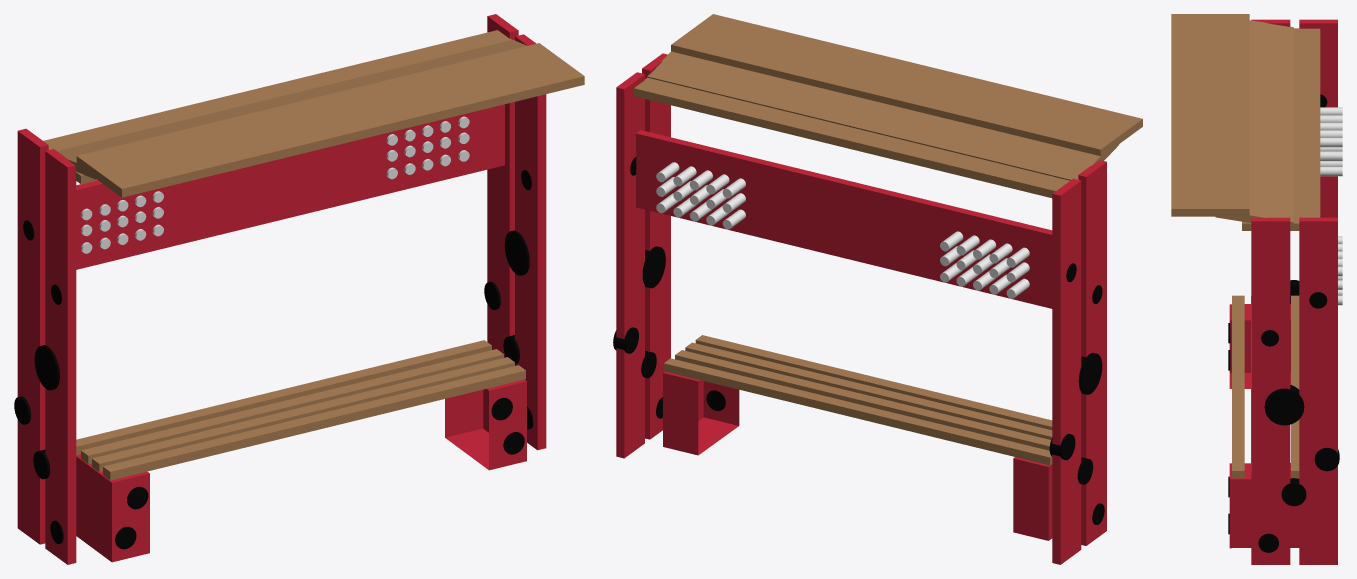
Rendered from station.gltf.
3 renders of one model, left to right at view 1: azimuth 30°, elevation 25°; view 2: azimuth 150°, elevation 25°; view 3: azimuth 270°, elevation 25°, orthographic. The views are drawn at different scales.
Visible parts, largest first — view 1: Cube; view 2: Cube; view 3: Cube.
Part boxes in pixels (x1=…): Cube: x1=14, y1=14, x2=584, y2=564; Cube: x1=613, y1=14, x2=1142, y2=564; Cube: x1=1171, y1=14, x2=1342, y2=564.
Size of the model in its own units: 12.7 by 10.24 by 4.51.
